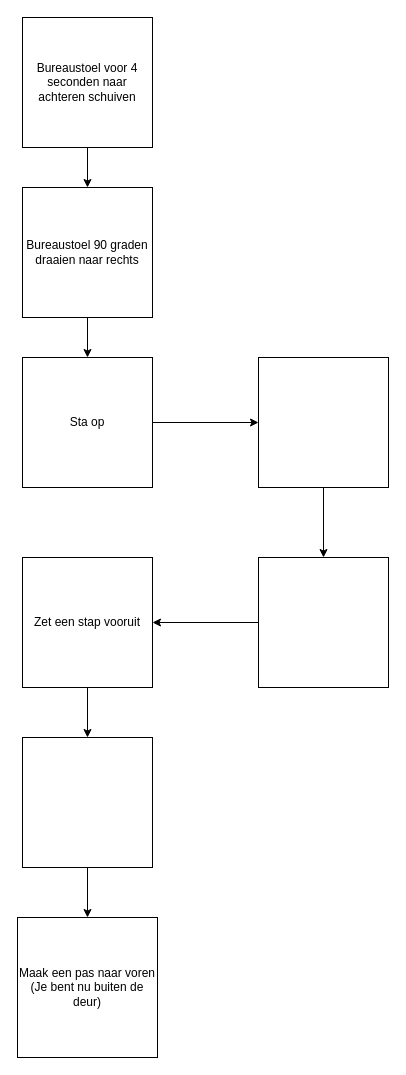
The diagram is 406 pixels wide and 1075 high, and some of its shapes have lost their labels. The shapes that lost their labels are listed below. From the top down, each one's centre as x and y in pixels, then its label:
At (x=323, y=422): "Zet 3 passen vooruit".
At (x=323, y=622): "Draai 90 graden naar links".
At (x=87, y=802): "Draai 90 graden naar rechts".
